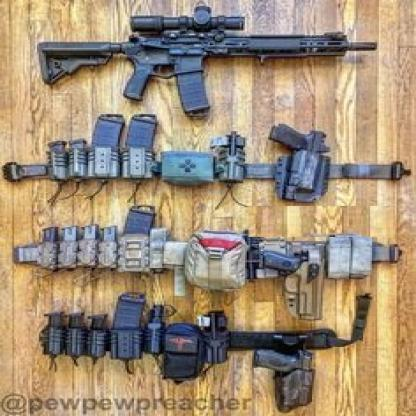Grenade: (145, 302, 176, 356), (36, 311, 65, 359), (88, 313, 110, 359), (66, 312, 86, 357)
Gun: (35, 5, 377, 114)
Pistol: (270, 118, 332, 206), (263, 248, 324, 322)
